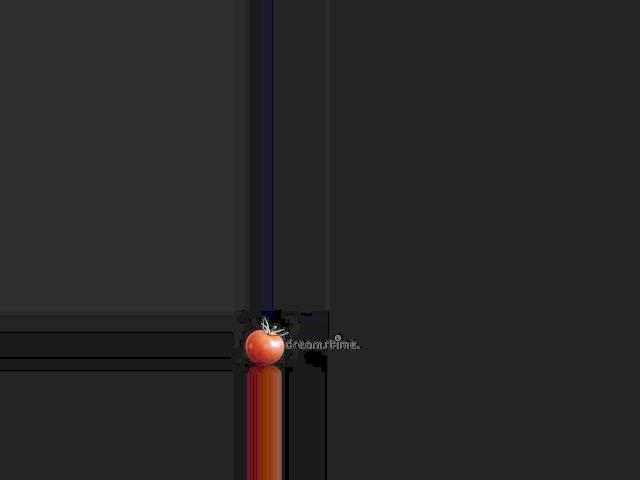tomato: (246, 330, 284, 363)
